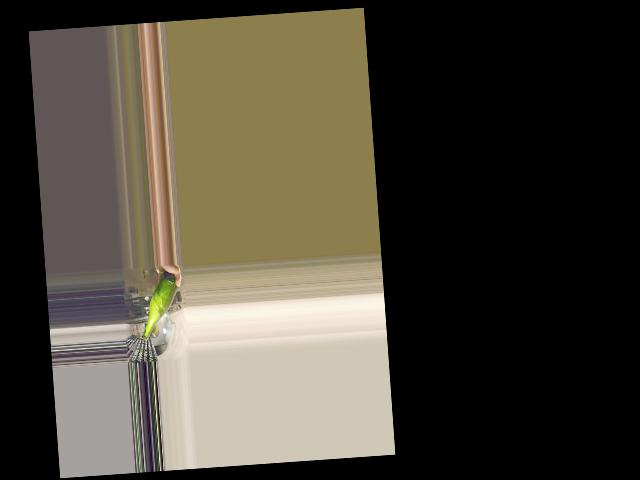beer: (135, 270, 183, 341)
